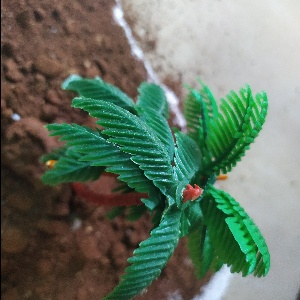plant: (44, 77, 272, 300)
